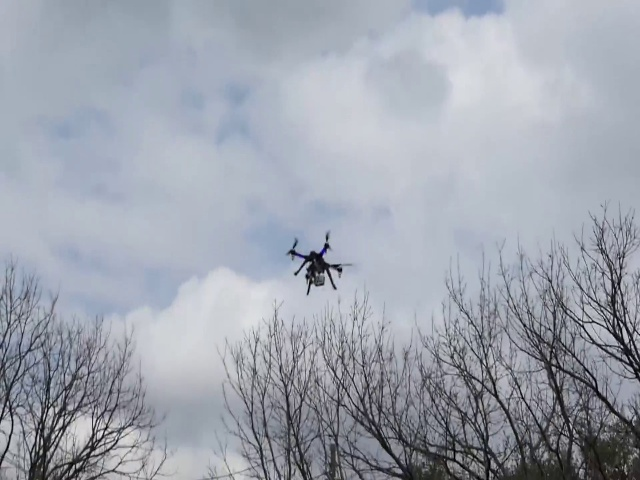drone: (282, 229, 357, 297)
